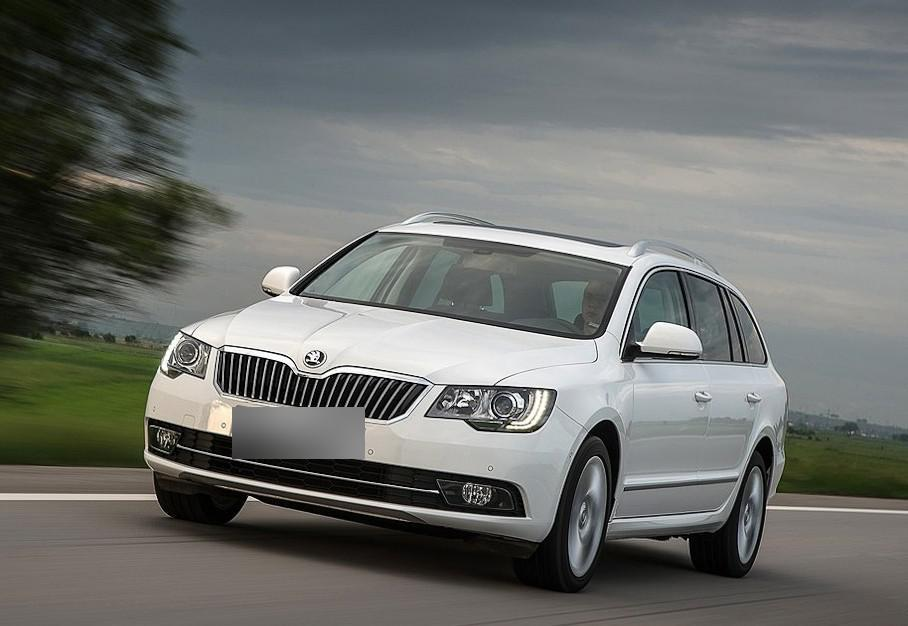Wagon: (142, 211, 790, 594)
